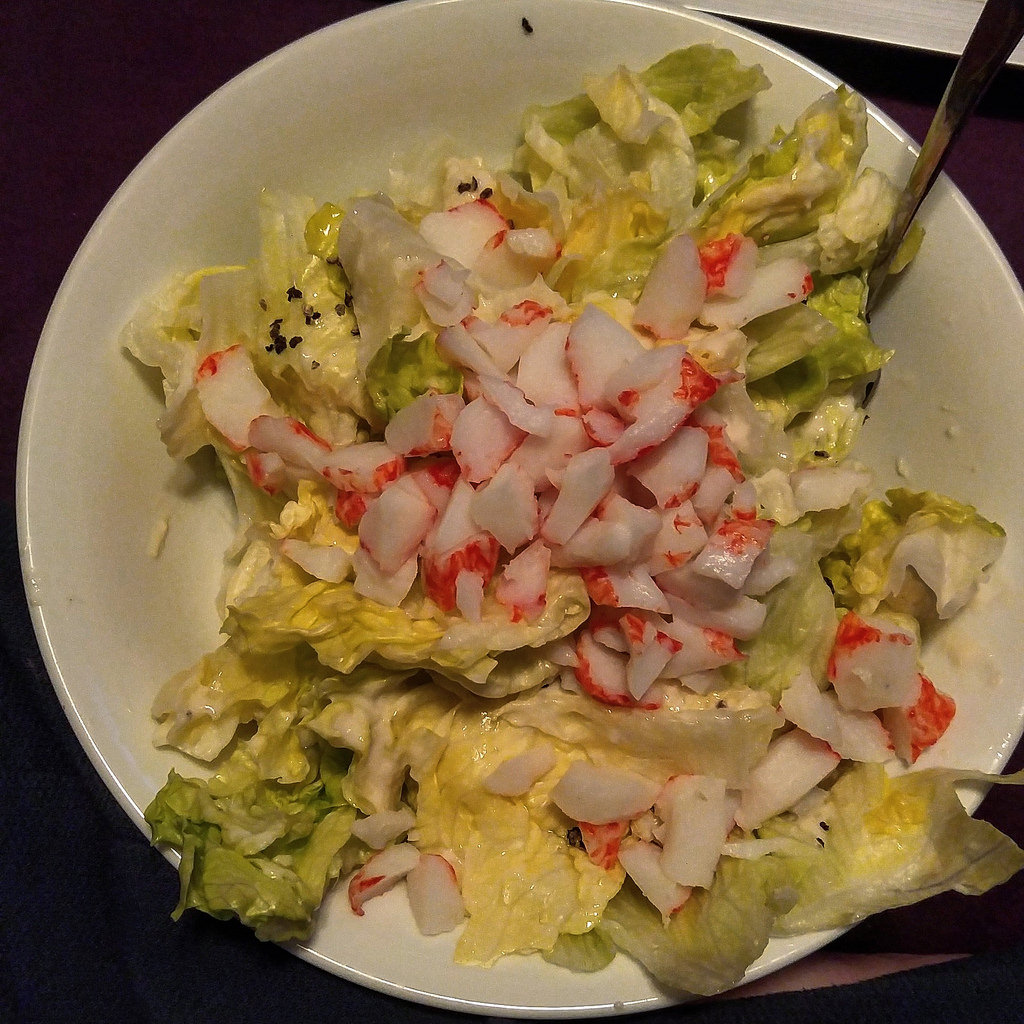chopped lettuce: (260, 627, 860, 953), (622, 135, 837, 450)
